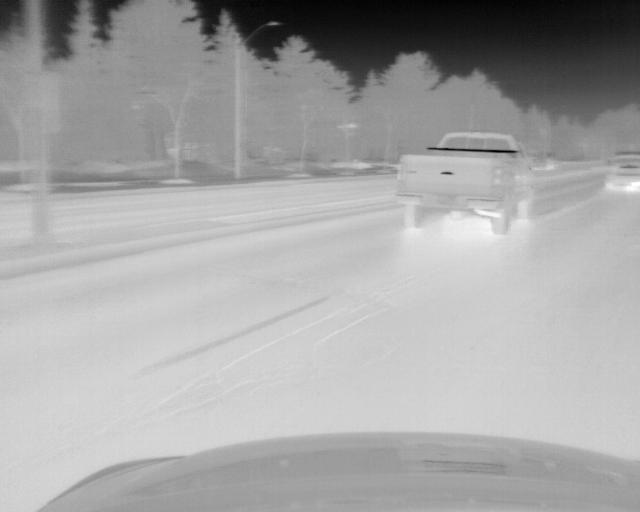car: (394, 130, 536, 234), (603, 150, 640, 191)
